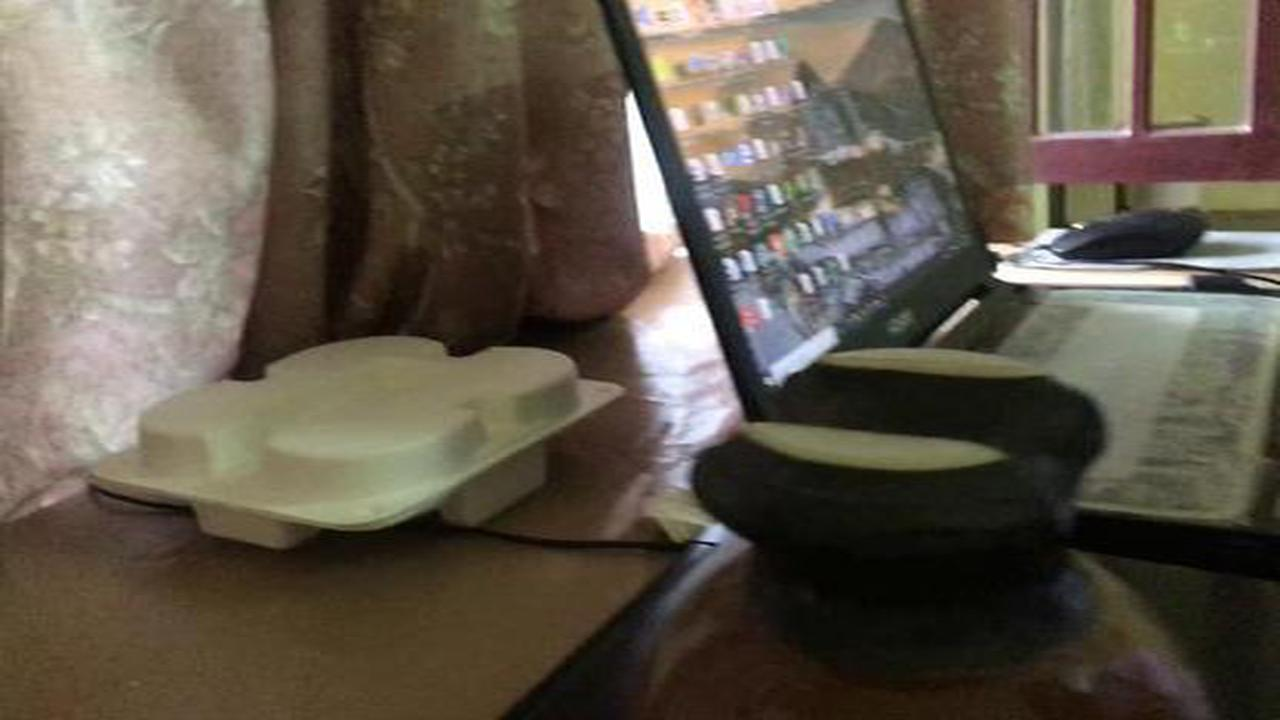insulator_pin: (604, 335, 1244, 719)
